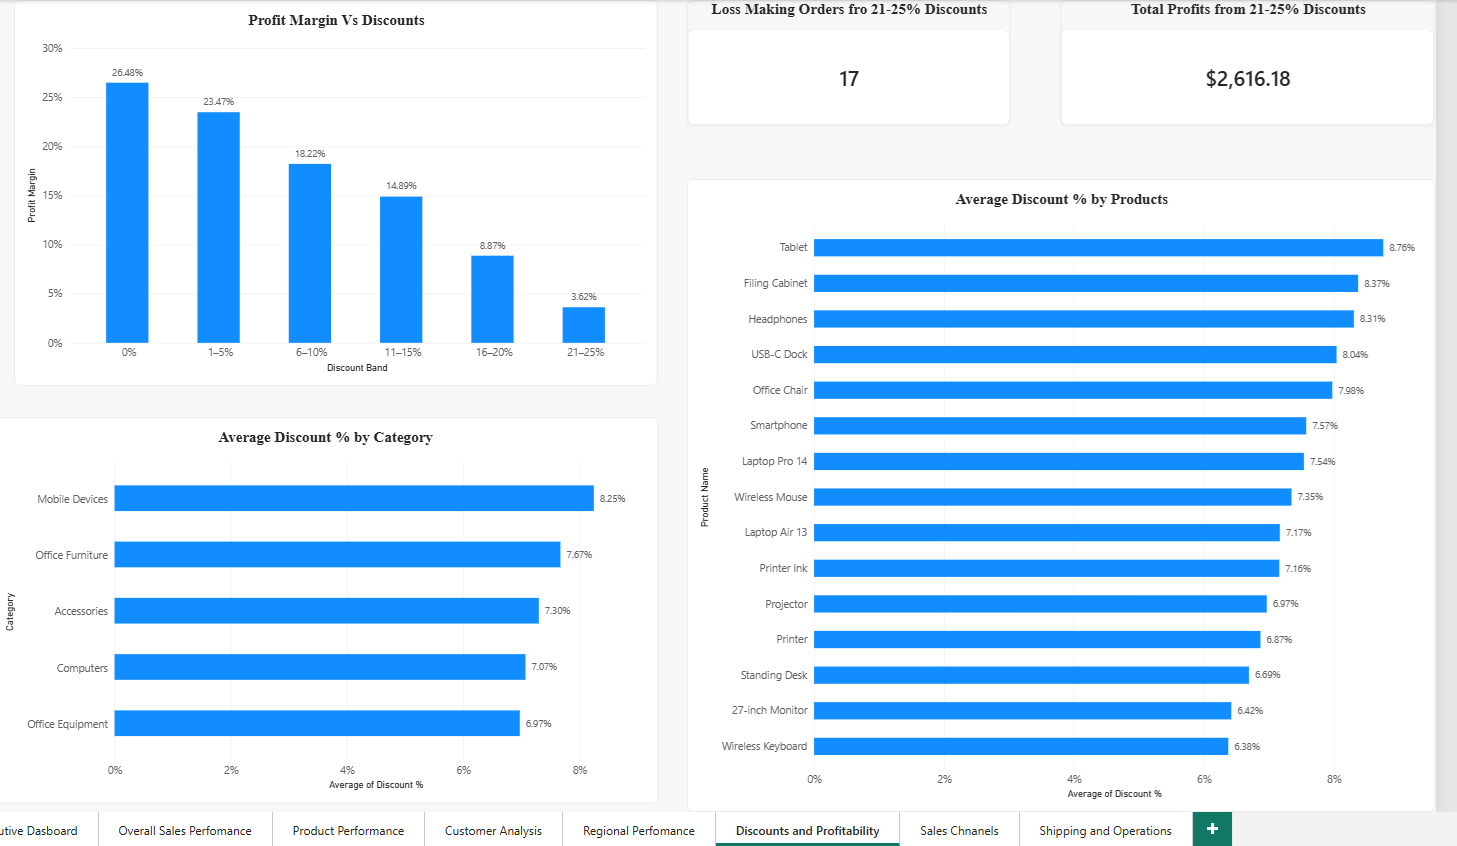

This screenshot's page, from the dashboard's own definition file:
{"tool":"powerbi","page":{"name":"Discounts and Profitability","canvas":[1920,1080],"ordinal":5},"visuals":[{"type":"clusteredColumnChart","title":"Profit Margin Vs Discounts","fields":{"Category":["Sales Data.Discount Band"],"Y":["Calendar Reference.Profit Margin"]},"box":[29.2,0,856,513],"z":0},{"type":"cardVisual","title":"Loss Making Orders fro 21-25% Discounts","fields":{"Data":["Calendar Reference.Loss-Making Orders"]},"box":[925,0,430.4,167.8],"z":1000},{"type":"cardVisual","title":"Total Profits from 21-25% Discounts","fields":{"Data":["Sum(Sales Data.Profit)"]},"box":[1421,0,499,167.8],"z":2000},{"type":"clusteredBarChart","title":"Average Discount % by Products","fields":{"Category":["Products.Product Name"],"Y":["Avg(Sales Data.Discount %)"]},"box":[925,237.8,995,841.8],"z":3000},{"type":"clusteredBarChart","title":"Average Discount % by Category","fields":{"Category":["Products.Category"],"Y":["Avg(Sales Data.Discount %)"]},"box":[0,554.4,885.6,513.6],"z":4000}]}

Visuals, with their boxes on the page's 1920x1080 design canvas (x1, y1, x2, y2). These are canvas units, not pixel positions in the 1457x846 screenshot, which may show the page scaled, cropped or inside an application window:
"Profit Margin Vs Discounts" clusteredColumnChart: detection(29, 0, 885, 513)
"Loss Making Orders fro 21-25% Discounts" cardVisual: detection(925, 0, 1355, 168)
"Total Profits from 21-25% Discounts" cardVisual: detection(1421, 0, 1920, 168)
"Average Discount % by Products" clusteredBarChart: detection(925, 238, 1920, 1080)
"Average Discount % by Category" clusteredBarChart: detection(0, 554, 886, 1068)
